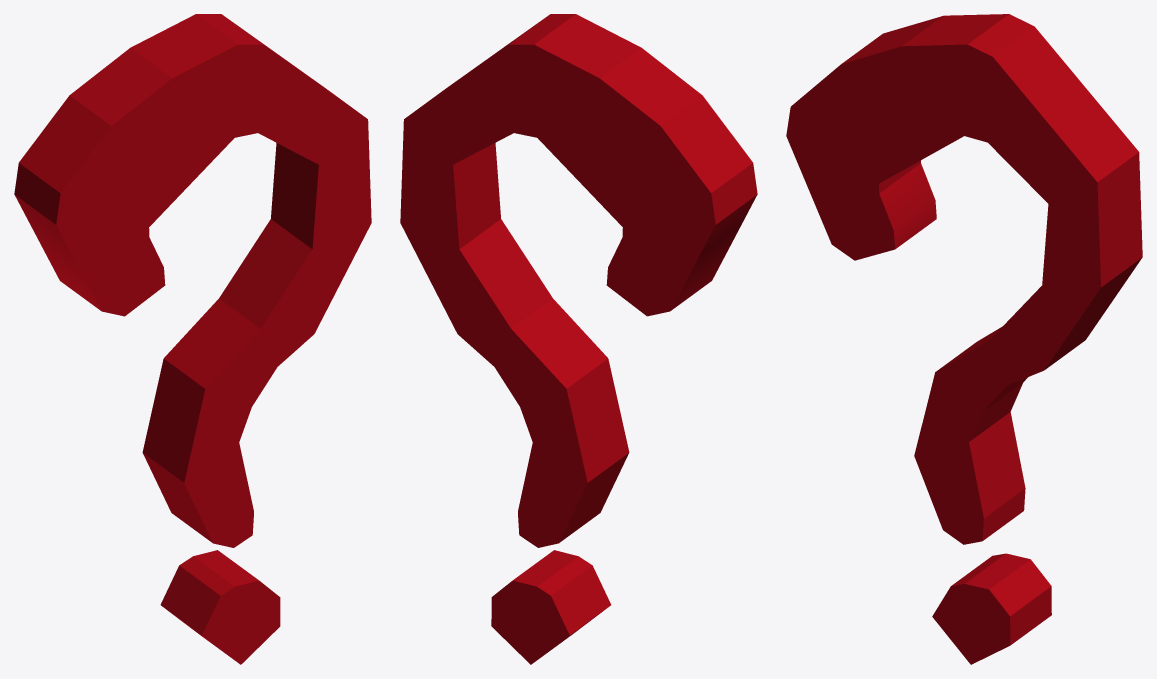
Rendered from sign_yuyan_wenhao.FBX.
3 renders of one model, left to right at view 1: azimuth 30°, elevation 25°; view 2: azimuth 150°, elevation 25°; view 3: azimuth 330°, elevation 25°, orthographic.
Parts seen in each view (by area): view 1: Box002; view 2: Box002; view 3: Box002.
Part boxes in pixels (box(x1,y1,x2,y2)): Box002: box(14, 14, 371, 664); Box002: box(400, 14, 757, 664); Box002: box(786, 14, 1142, 664).
Bounding box in the file's own units: 217 × 408 × 49.83.
